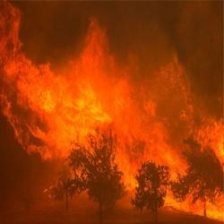fire: (15, 64, 123, 141), (164, 156, 224, 220)
